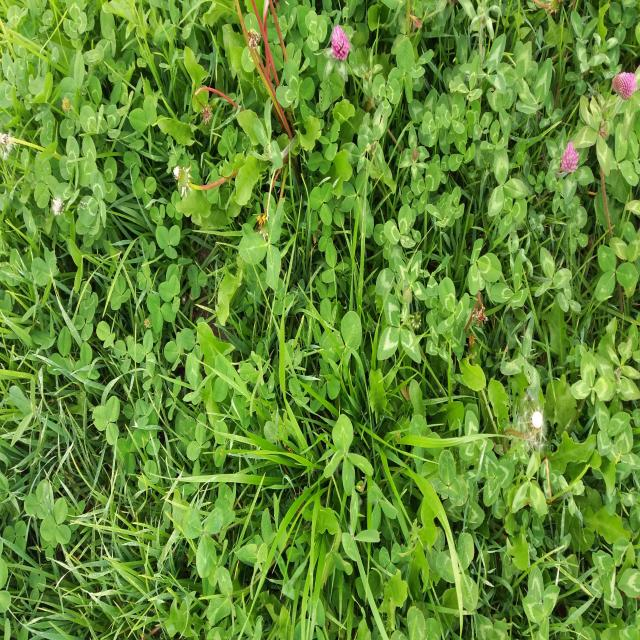Four Leaf Clover: (324, 414, 374, 496)
